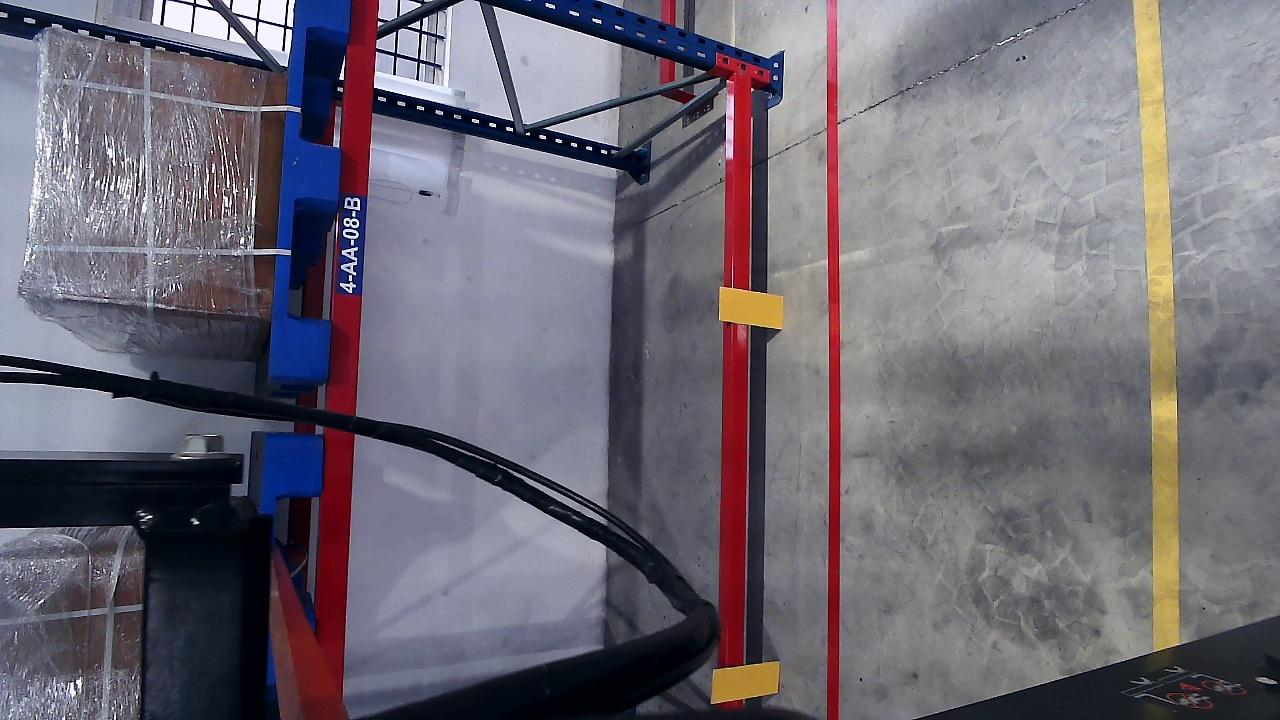h_rack: (322, 0, 383, 619), (720, 84, 756, 710)
orange_strip: (710, 660, 780, 702), (719, 287, 784, 329)
red_line: (812, 0, 854, 716)
small_pallet: (276, 2, 350, 382)
yellow_line: (1134, 0, 1181, 582)
